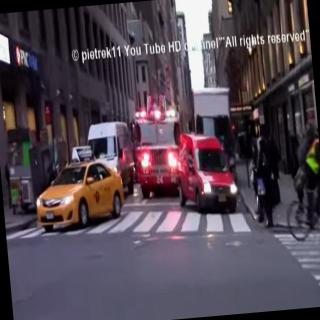Fire_truck: (127, 91, 187, 199)
